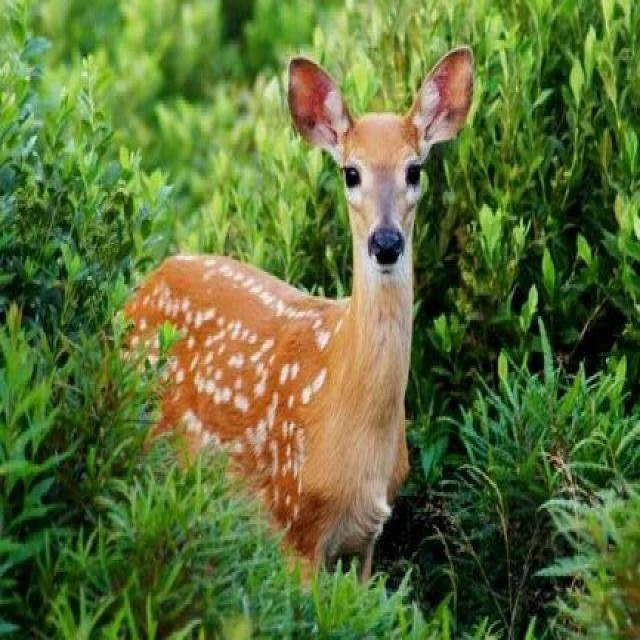deer: (119, 64, 508, 512)
